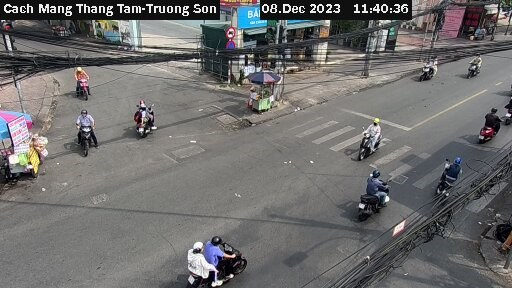motorbike: (170, 225, 249, 288), (351, 166, 408, 235), (67, 65, 124, 122), (427, 156, 472, 209), (117, 101, 175, 139), (62, 112, 108, 158), (358, 110, 390, 164), (412, 51, 452, 92), (471, 112, 507, 154), (460, 53, 496, 88)
